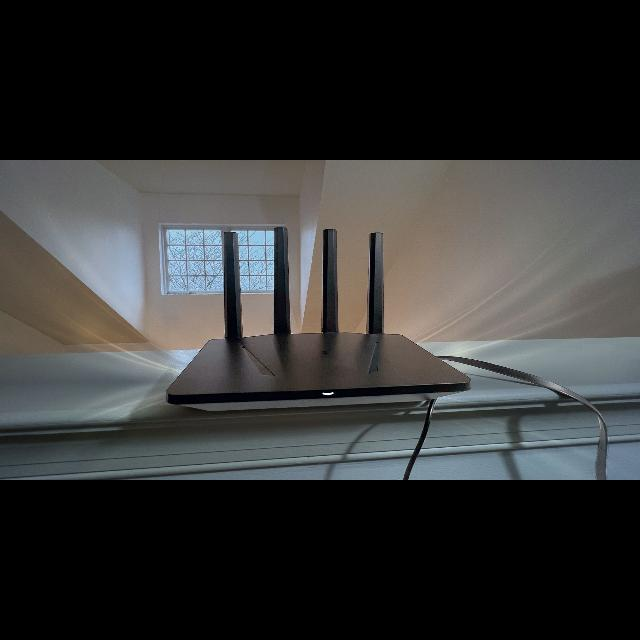Router: (164, 231, 472, 412)
